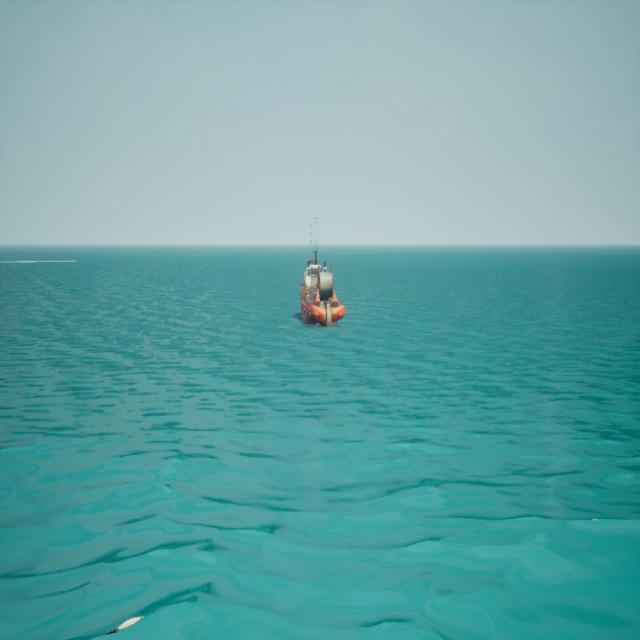tug boat: (299, 220, 344, 330)
